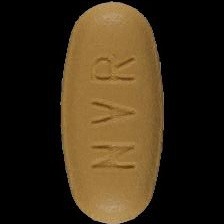0078-0472: (0, 0, 224, 224)
